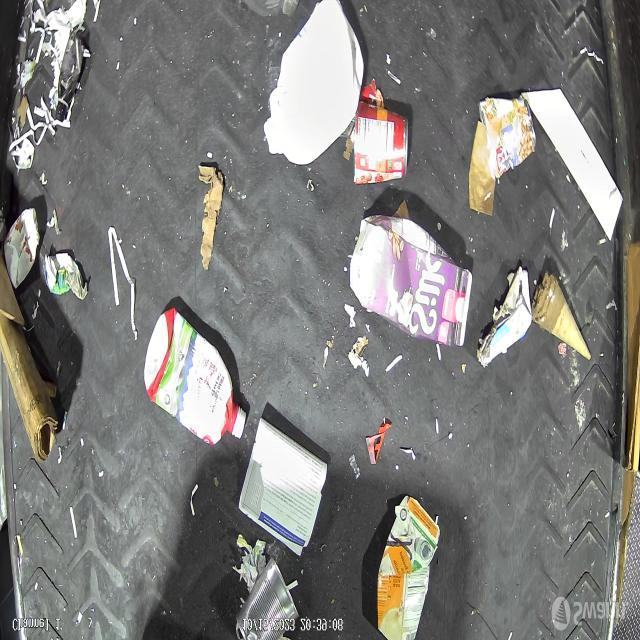can: (231, 556, 307, 638), (347, 96, 410, 192)
milk_jug: (255, 0, 368, 170)
